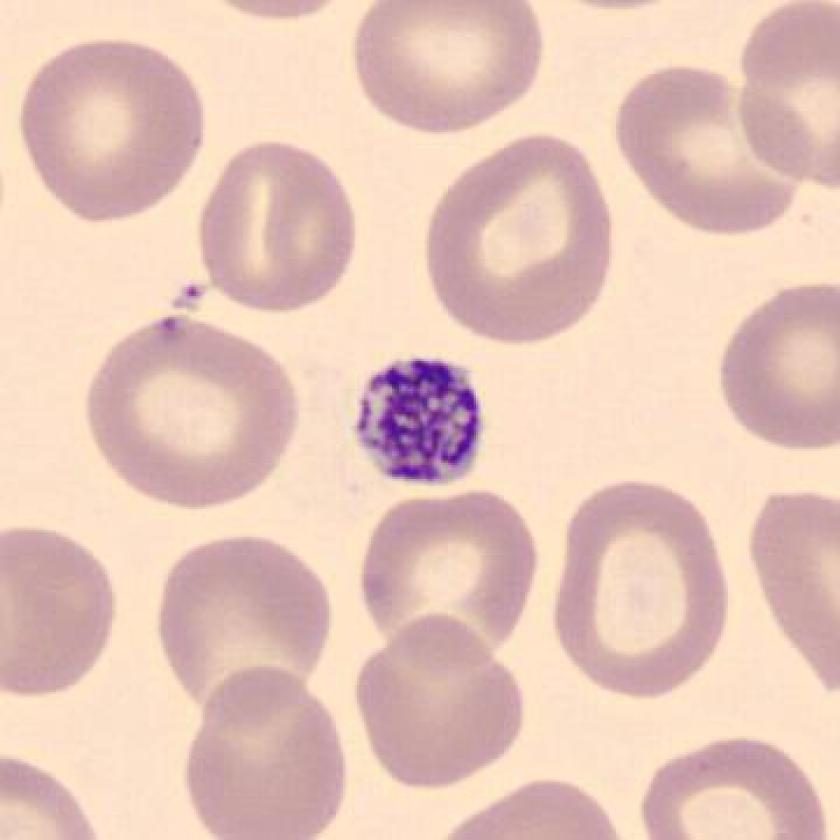platelets: (344, 348, 493, 501)
